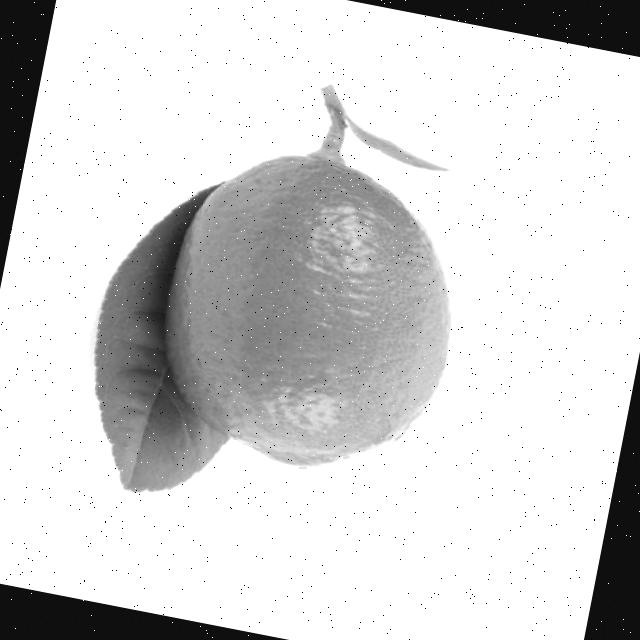Unripe: (140, 133, 480, 494)
